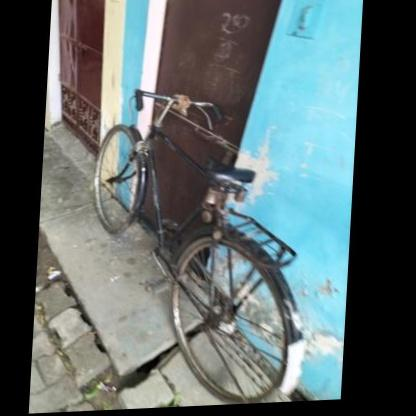Bicycle: (65, 83, 313, 406)
